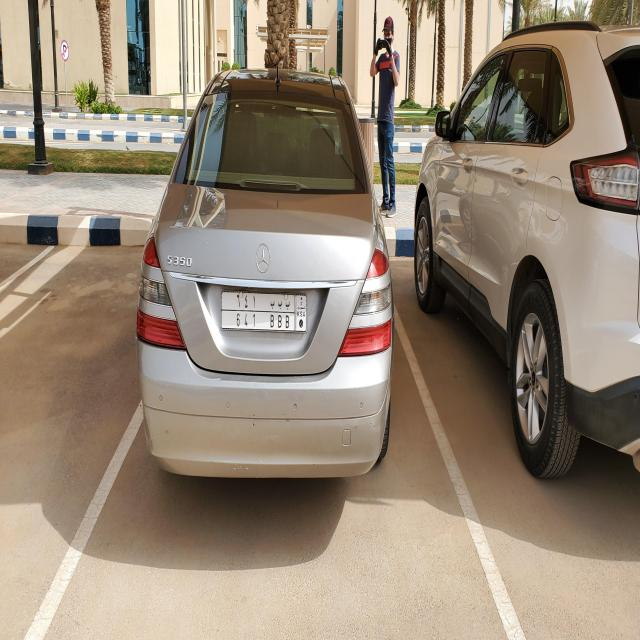license_plate: (221, 290, 308, 335)
